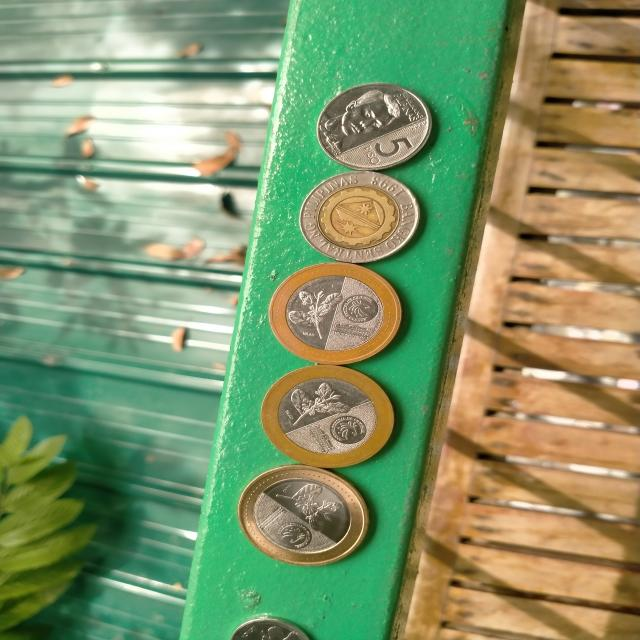10_Old_Back: (290, 168, 417, 260)
20_New_Back: (265, 486, 358, 538), (272, 380, 357, 430), (285, 283, 346, 346)
5_New_Front: (358, 126, 423, 168)
